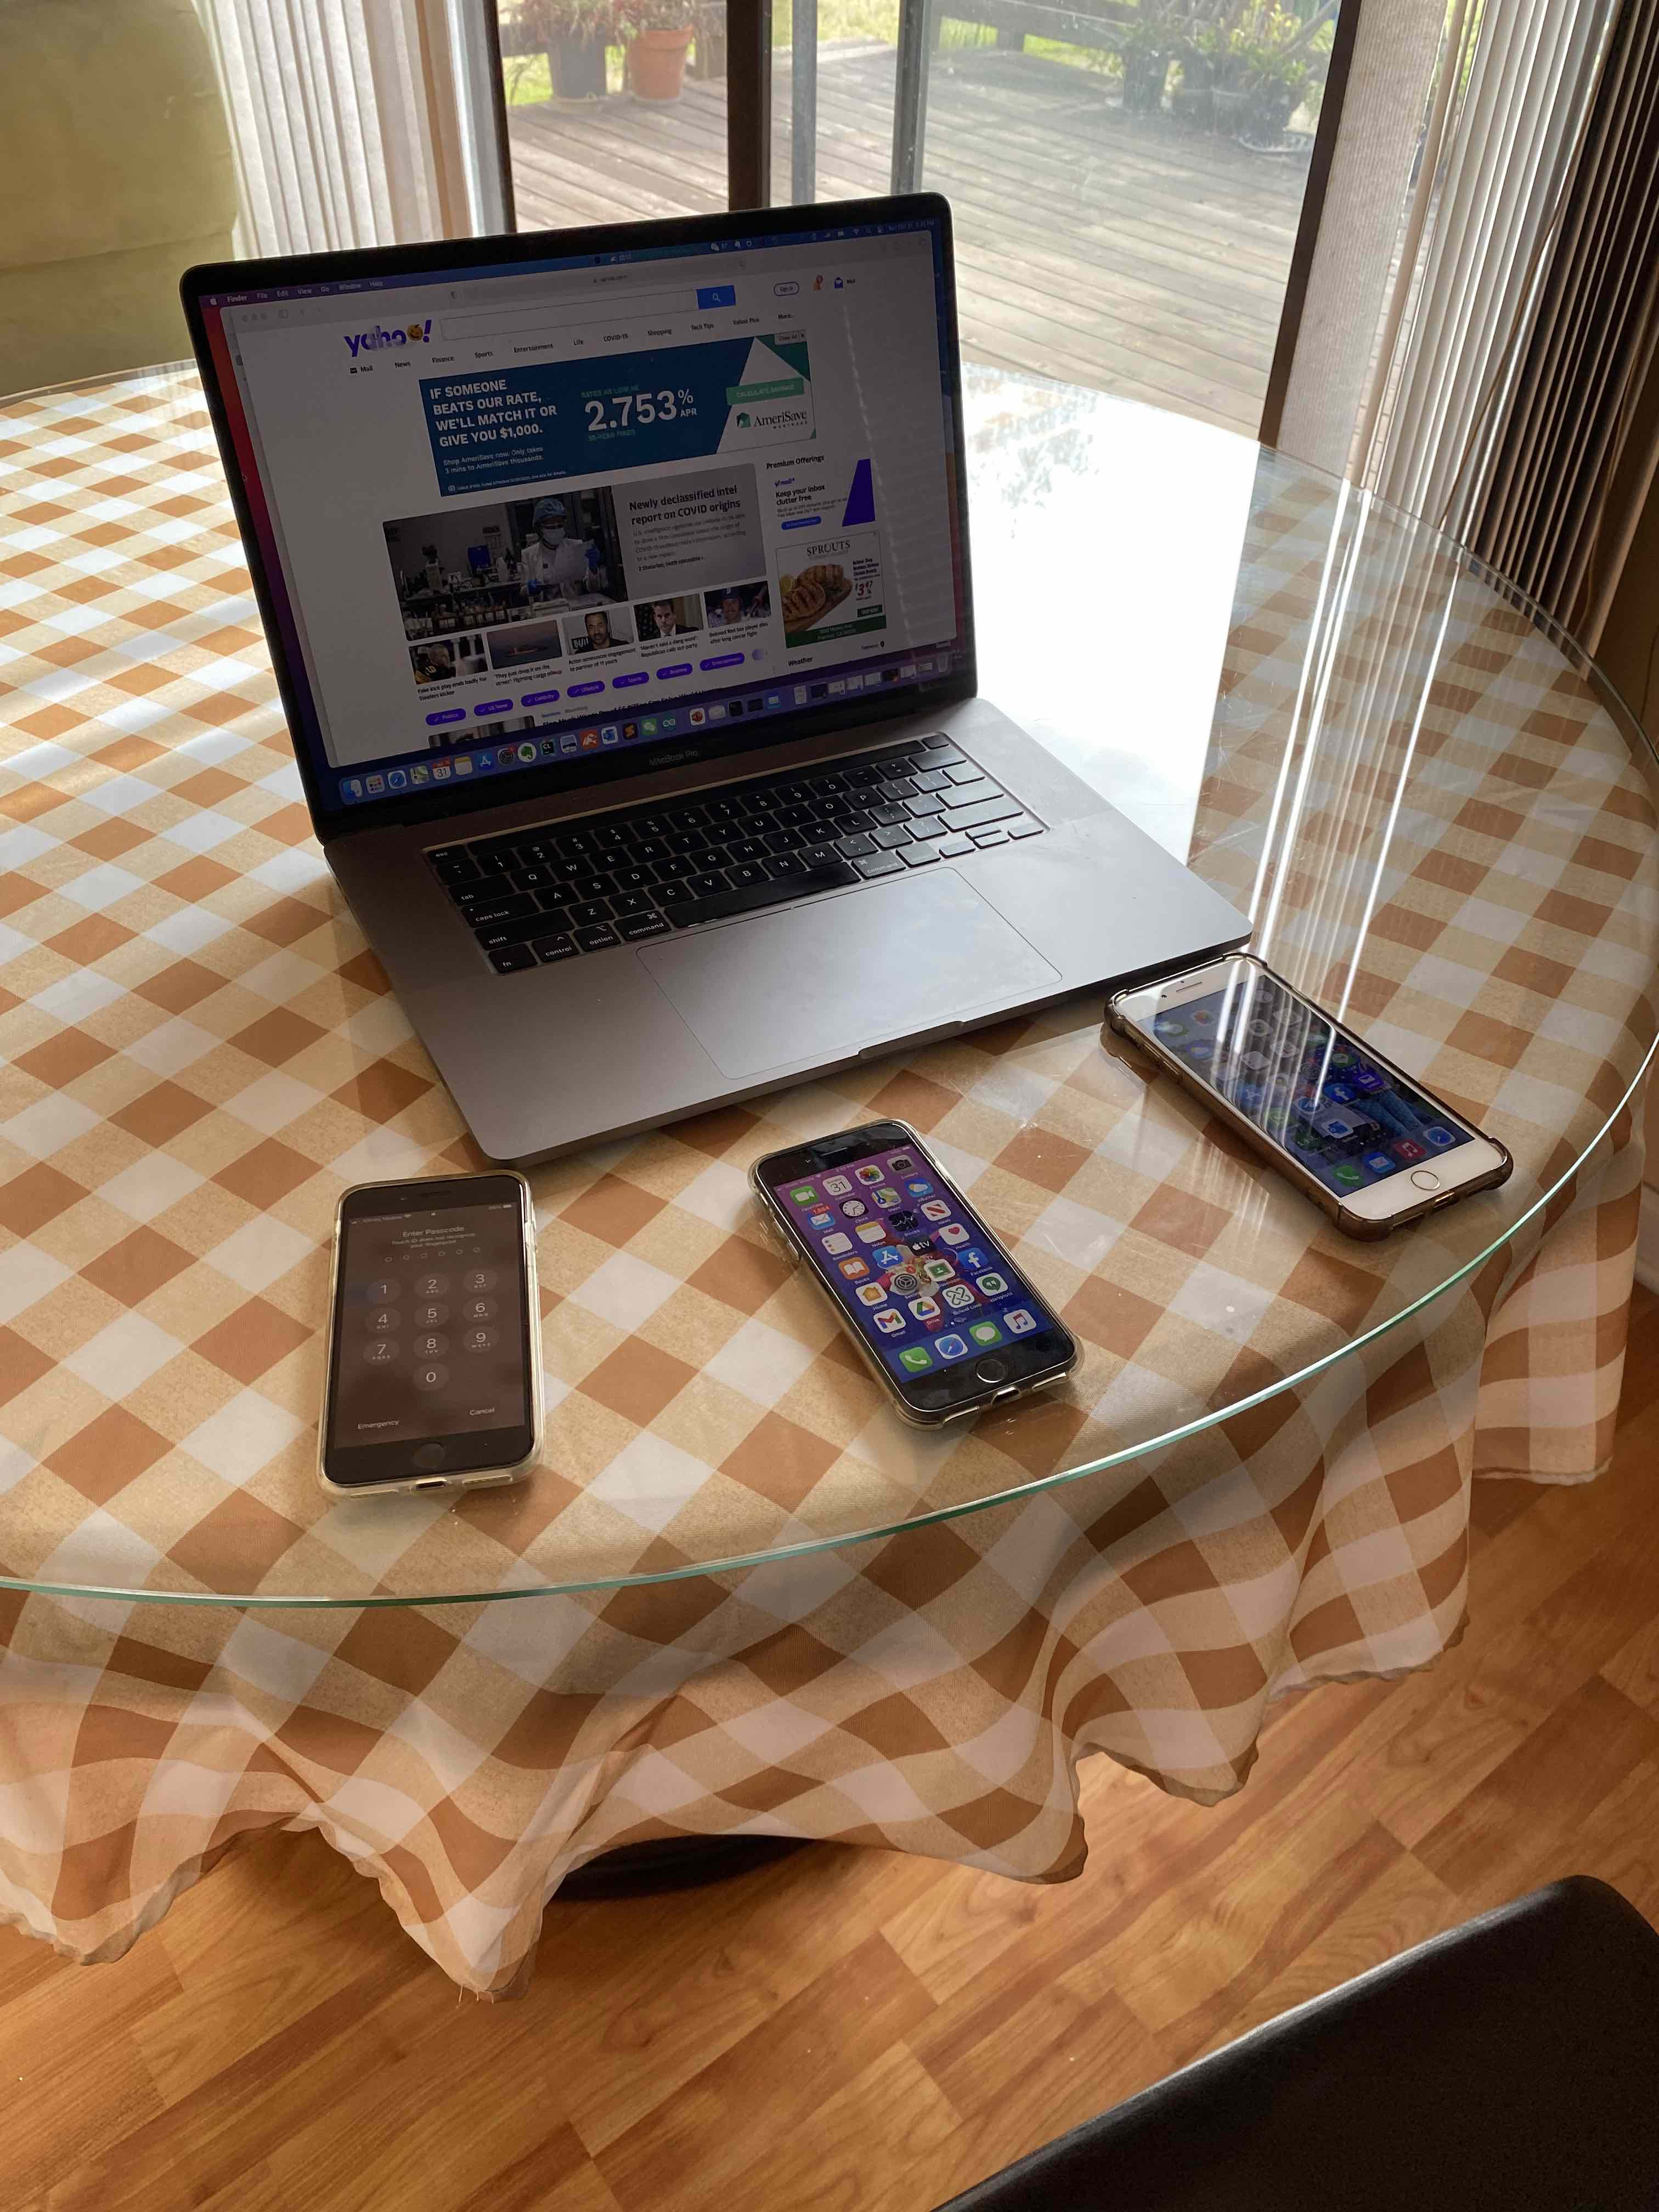Cell Phone: (1105, 954, 1516, 1233), (749, 1115, 1082, 1421), (333, 1177, 549, 1507)
